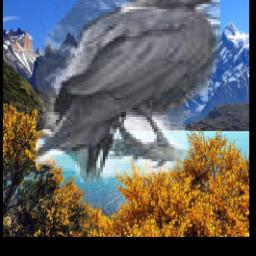Crow: (36, 0, 220, 183)
